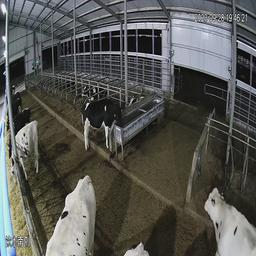cow: (183, 154, 254, 255), (47, 160, 100, 250), (78, 98, 124, 159), (6, 120, 42, 184), (2, 104, 32, 129)
